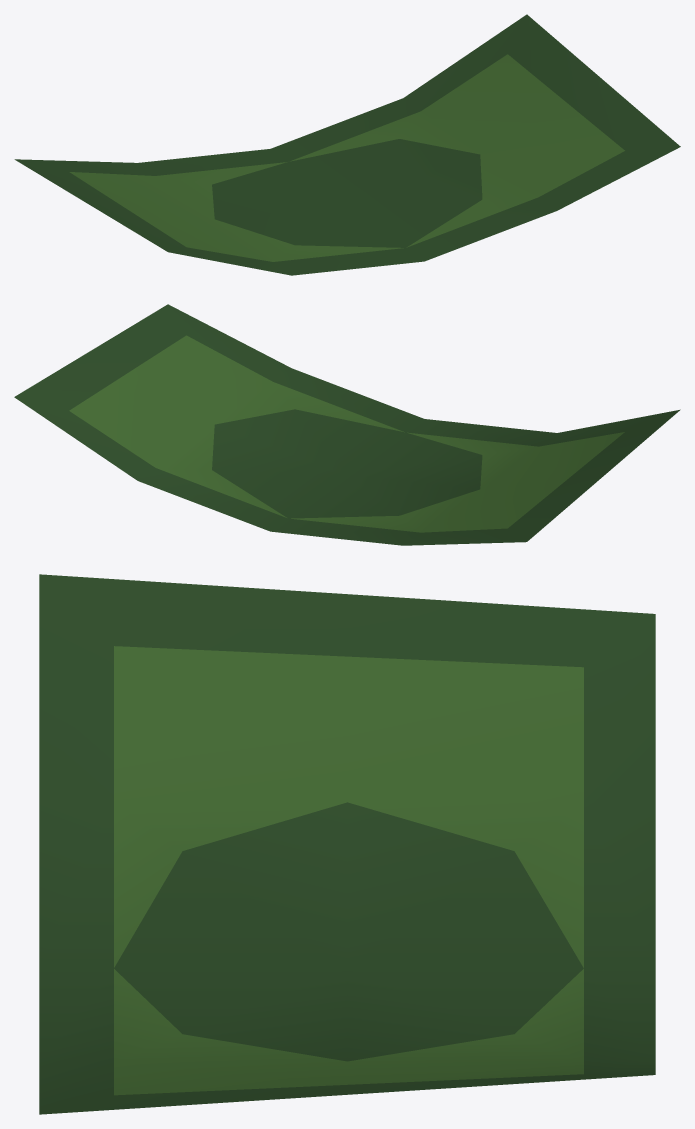
Rendered from Item_Money.fbx.
3 views of the same model, one above another, from view 1: azimuth 30°, elevation 25°; view 2: azimuth 150°, elevation 25°; view 3: azimuth 270°, elevation 25° (orthographic). The views are drawn at different scales.
Visible parts, largest first — view 1: Item_Money; view 2: Item_Money; view 3: Item_Money.
Part boxes in pixels (<box>): Item_Money: <box>14,14,680,275</box>; Item_Money: <box>14,304,680,545</box>; Item_Money: <box>39,574,655,1114</box>.
Bounding box in the file's own units: 31.69 × 4.25 × 16.48.
